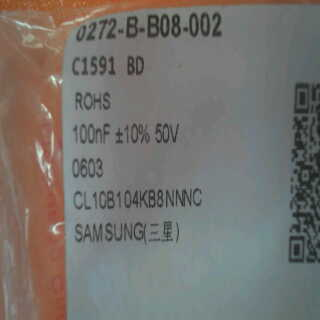100nF: (71, 118, 113, 150)
